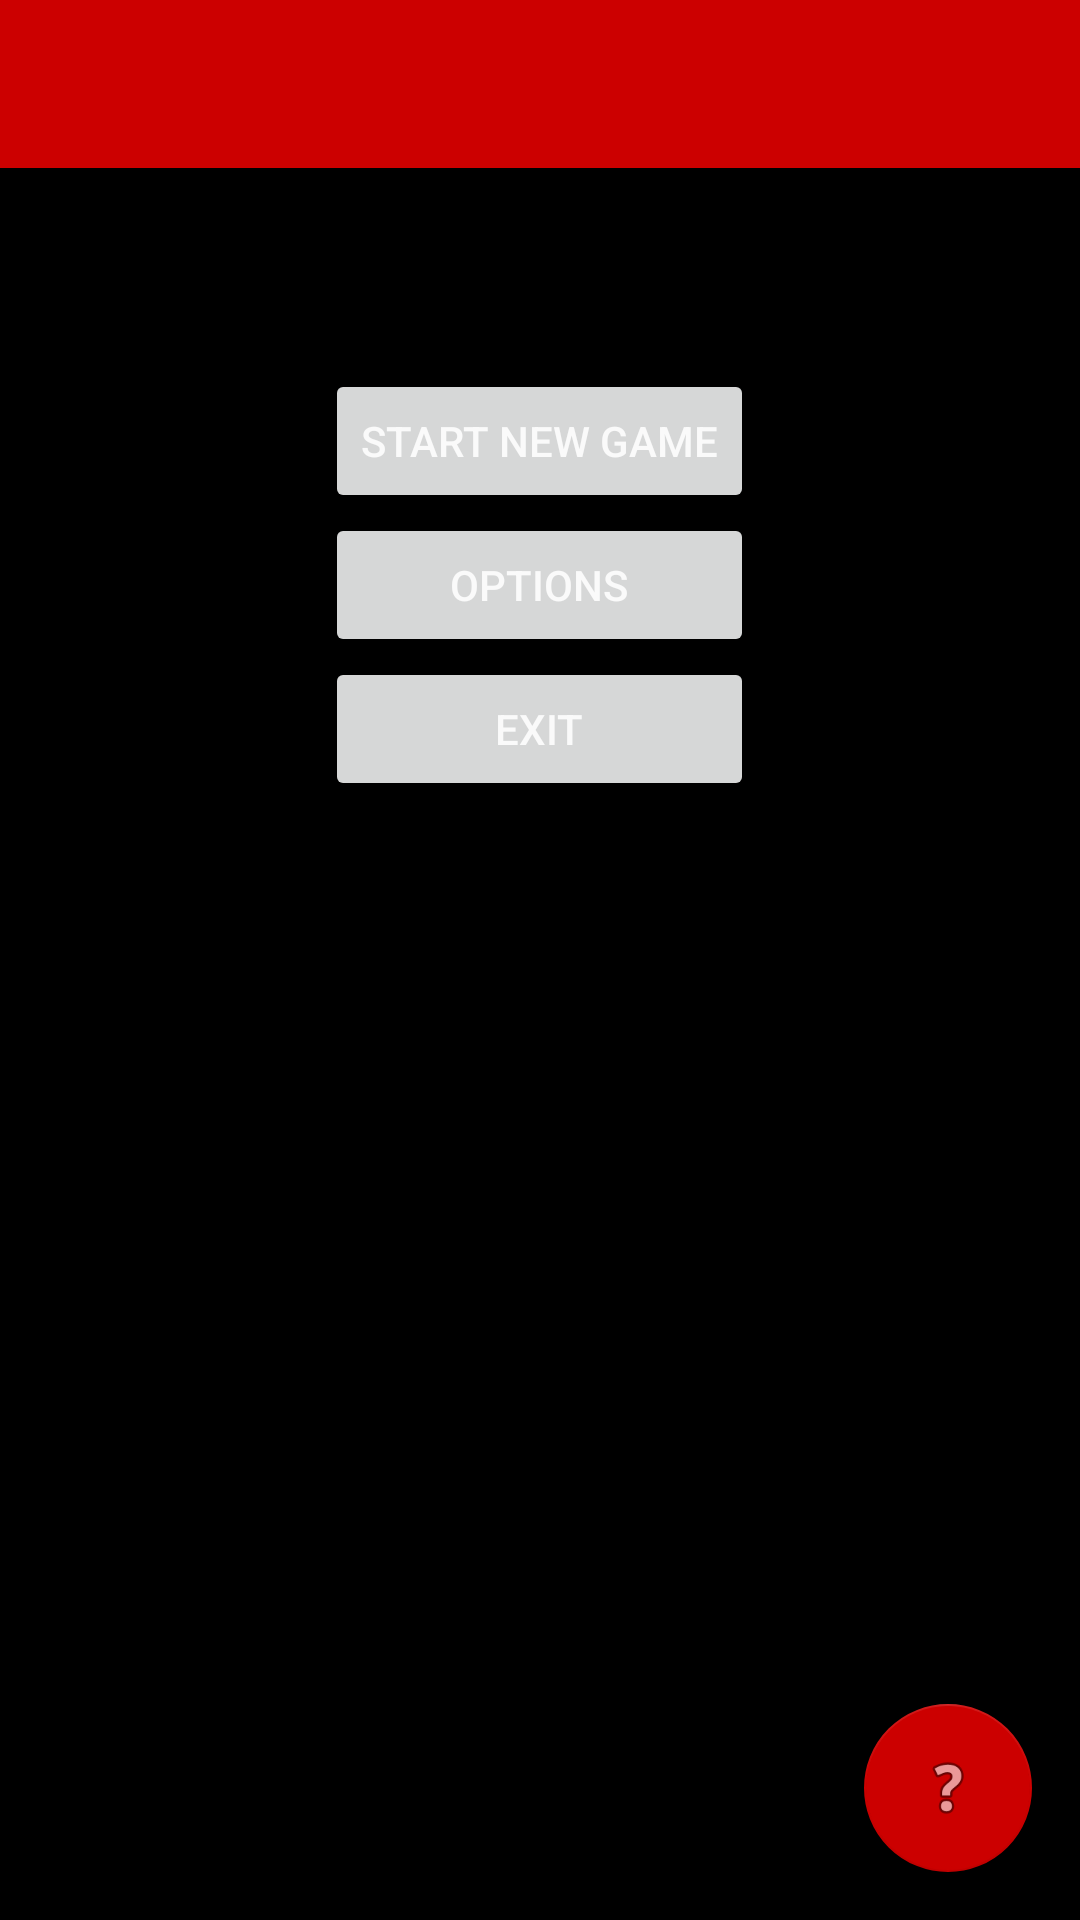

Icons on this 1080w x 1920h Android screen, each with the point to tap as (x,y):
help: (948,1788)
